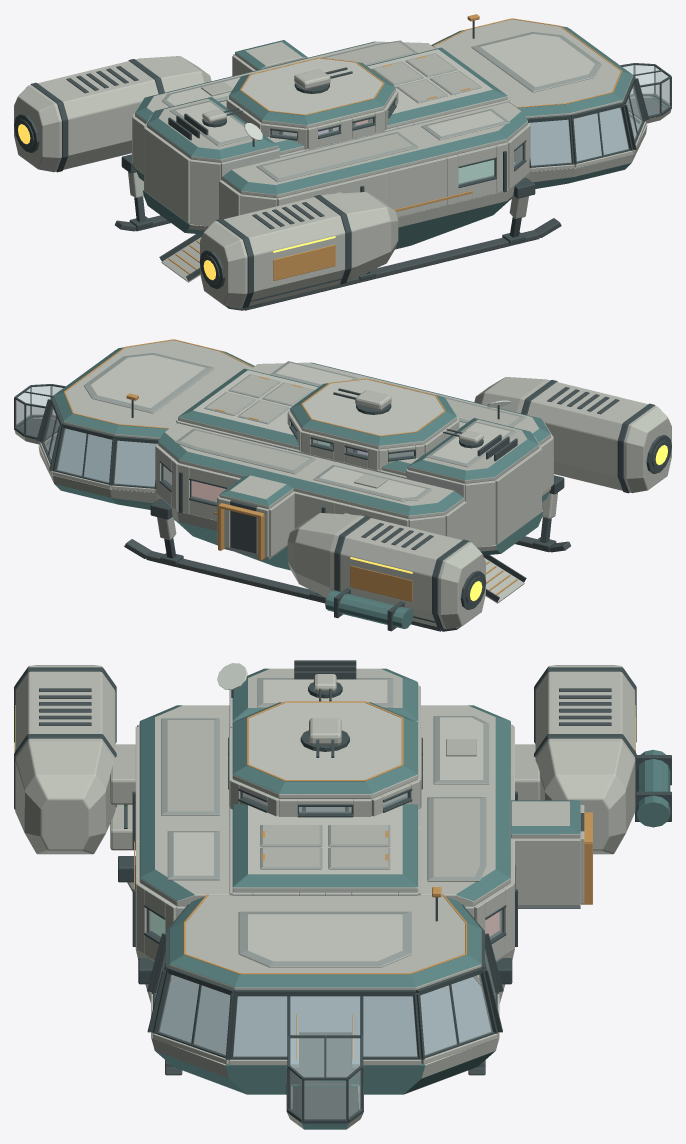
File: starting-ship-study.glb
The picture shows the model from 3 angles, top to bottom: view 1: azimuth 30°, elevation 25°; view 2: azimuth 150°, elevation 25°; view 3: azimuth 270°, elevation 25°; orthographic projection. The views are drawn at different scales.
Parts seen in each view (by area): view 1: Engine nacelle, Engine nacelle.001, Turret drum roof, Bridge roof, Wing roof starboard, Continuous lower hull, Bridge roof plate, BRIDGE deck, Spine roof, ENGINE.003, Wing plate starboard, Engine roof (+35 smaller); view 2: Engine nacelle.001, Engine nacelle, Turret drum roof, Bridge roof, Wing roof port, Bridge roof plate, BRIDGE deck, Continuous lower hull, Spine roof, ENGINE.003, Engine roof, Wing plate port forward (+36 smaller); view 3: Bridge roof, BRIDGE deck, Engine nacelle, Turret drum roof, Engine nacelle.001, Spine roof, Bridge roof plate, Wing roof starboard, Wing roof port, Continuous lower hull, Wing plate starboard, Wing plate port forward (+31 smaller).
Boxes of the visible parts, left/top/right/bottom form: Engine nacelle: left=200, top=192, right=398, bottom=308; Engine nacelle.001: left=14, top=56, right=211, bottom=172; Turret drum roof: left=229, top=58, right=395, bottom=128; Bridge roof: left=431, top=19, right=632, bottom=118; Wing roof starboard: left=221, top=102, right=527, bottom=198; Continuous lower hull: left=134, top=117, right=647, bottom=249; Bridge roof plate: left=471, top=32, right=601, bottom=92; BRIDGE deck: left=529, top=108, right=639, bottom=165; Spine roof: left=367, top=47, right=507, bottom=128; ENGINE.003: left=144, top=127, right=190, bottom=223; Wing plate starboard: left=256, top=132, right=418, bottom=182; Engine roof: left=146, top=97, right=278, bottom=162; Engine nacelle.001: left=287, top=513, right=485, bottom=629; Engine nacelle: left=474, top=377, right=671, bottom=493; Turret drum roof: left=290, top=379, right=456, bottom=449; Bridge roof: left=53, top=340, right=254, bottom=439; Wing roof port: left=158, top=423, right=464, bottom=519; Bridge roof plate: left=84, top=353, right=214, bottom=413; BRIDGE deck: left=46, top=428, right=156, bottom=486; Continuous lower hull: left=38, top=438, right=550, bottom=570; Spine roof: left=178, top=368, right=318, bottom=449; ENGINE.003: left=495, top=448, right=541, bottom=544; Engine roof: left=407, top=418, right=539, bottom=483; Wing plate port forward: left=175, top=428, right=315, bottom=474; Bridge roof: left=169, top=895, right=481, bottom=989; BRIDGE deck: left=159, top=977, right=490, bottom=1068; Engine nacelle: left=15, top=665, right=115, bottom=854; Turret drum roof: left=232, top=702, right=418, bottom=798; Engine nacelle.001: left=535, top=665, right=635, bottom=854; Spine roof: left=232, top=804, right=418, bottom=892; Bridge roof plate: left=238, top=911, right=411, bottom=967; Wing roof starboard: left=139, top=705, right=229, bottom=906; Wing roof port: left=421, top=705, right=510, bottom=906; Continuous lower hull: left=135, top=948, right=514, bottom=1094; Wing plate starboard: left=161, top=718, right=219, bottom=815; Wing plate port forward: left=427, top=797, right=486, bottom=881.
Bounding box in the file's own units: 34.3 × 9.83 × 25.51.
